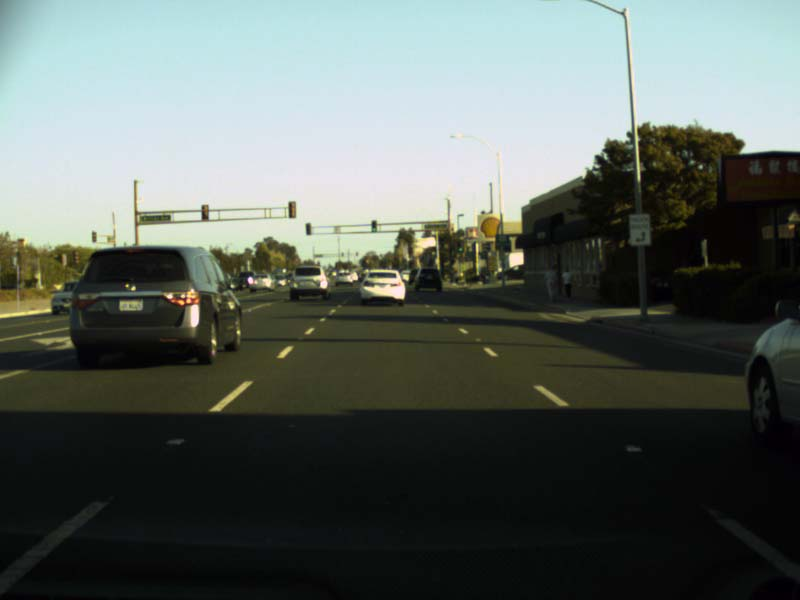Green: (370, 219, 377, 232), (457, 240, 463, 252)
